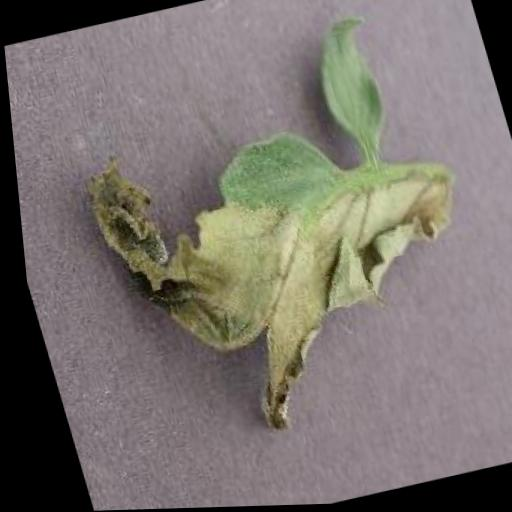Healthy: (299, 12, 403, 168)
Late Blight: (65, 84, 500, 455)
